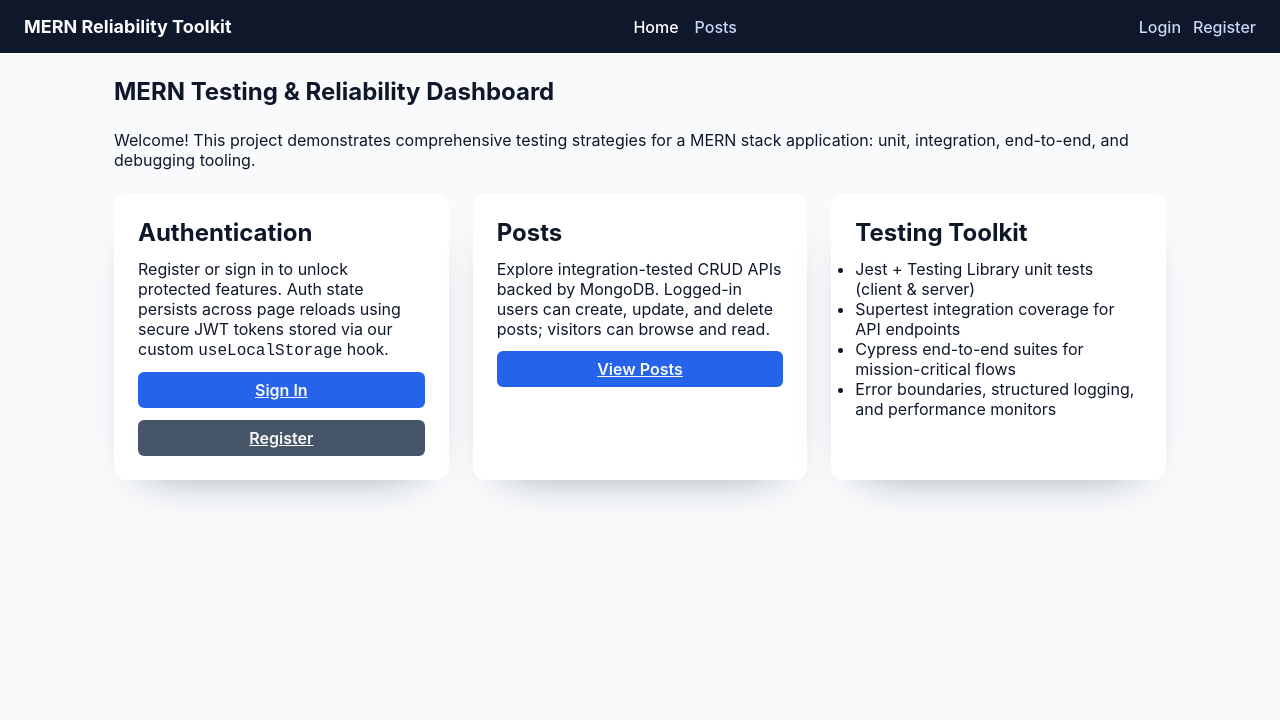
Test case: Navigation E2E Tests › navigates to the login and register pages
Click the link "Login". click: (1160, 27)
box: [1139,17,1181,37]
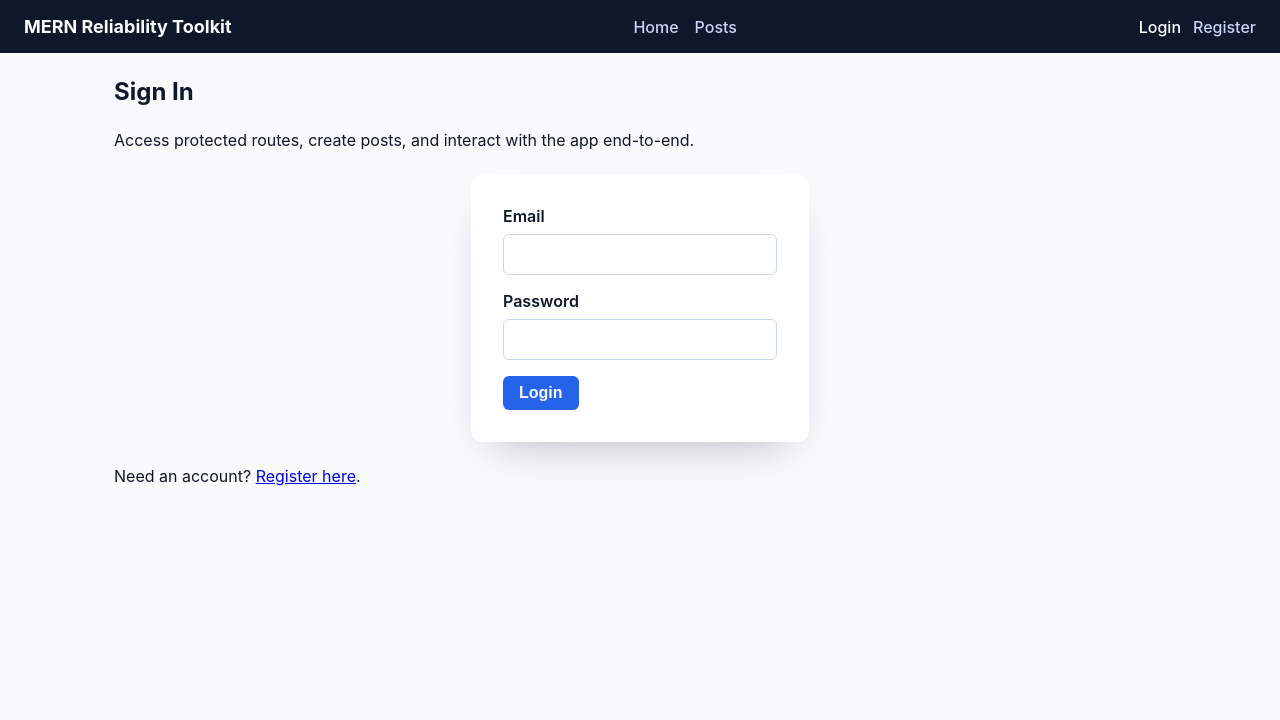
Now the heading "Sign In" is shown, box [114,77,194,106]
Click the link "Register". click: (1225, 27)
box: [1193,17,1256,37]
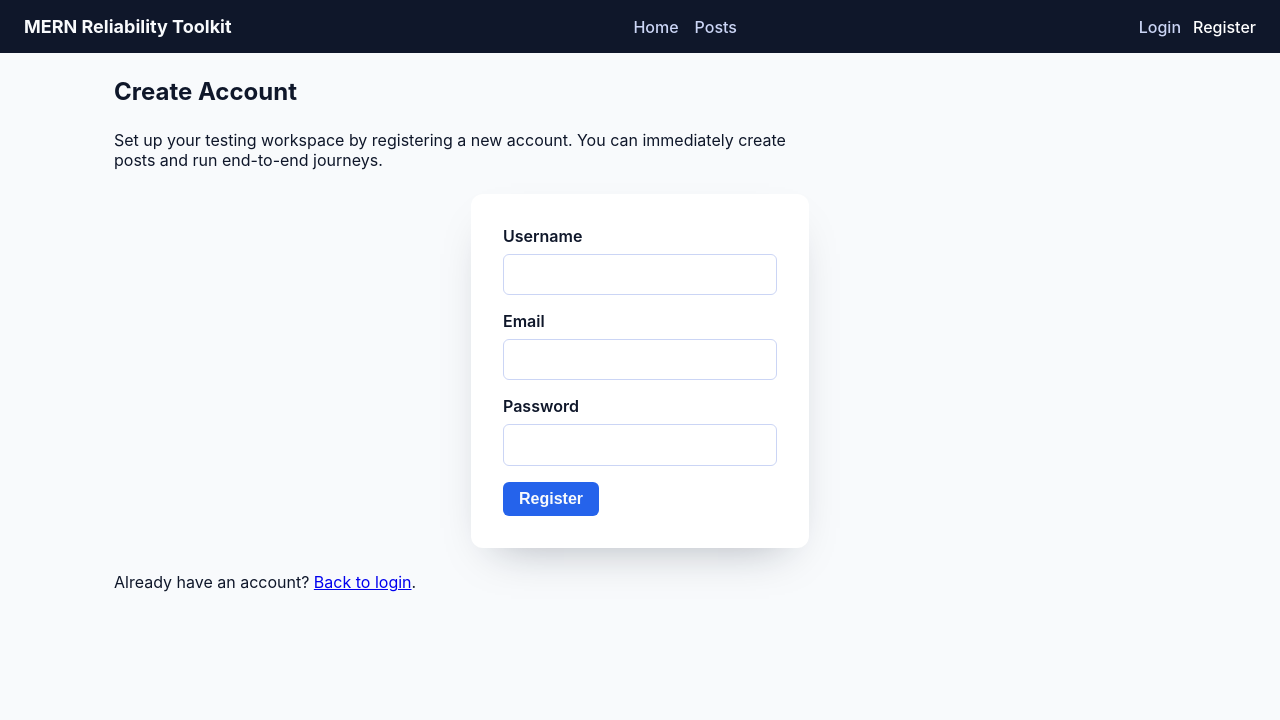
Now the heading "Create Account" is shown, box [114,77,297,106]
